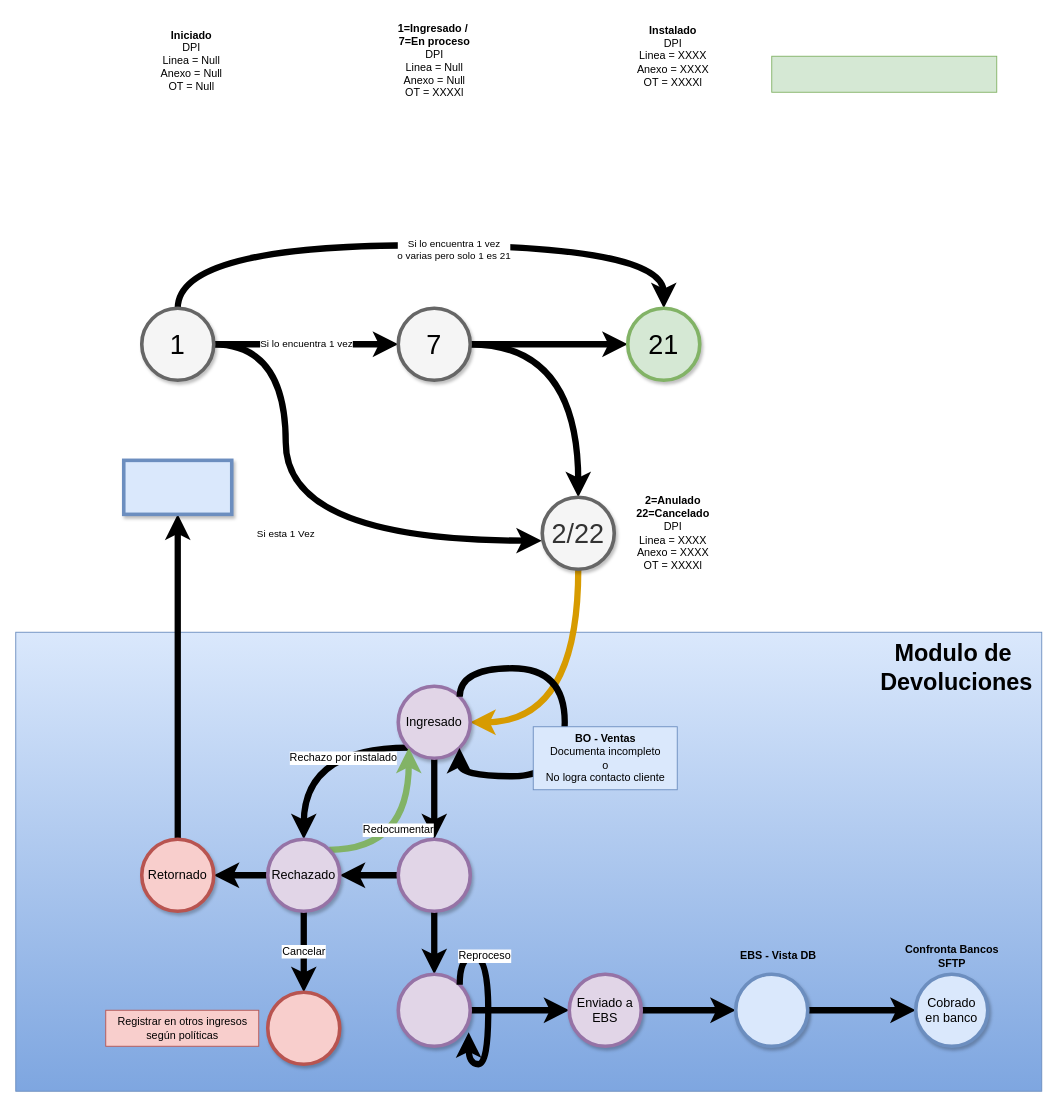
This 1058x1107 diagram has some shape labels left out. Here are the shapes that lost their labels. From the top down, the centre of each, then its label:
the point at 884,73: Si ya fue enviado a devoluciones NO debe de permitir documentar en PH
the point at 178,488: Revivir Recibo
the point at 434,876: Documentado
the point at 304,1029: Cancelado
the point at 434,1011: Validado
the point at 772,1011: Pagado EBS
